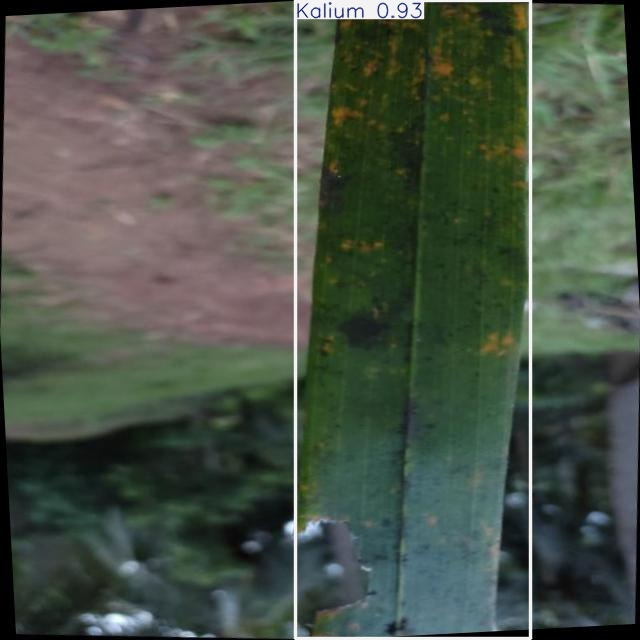Kalium: (295, 1, 530, 639)
